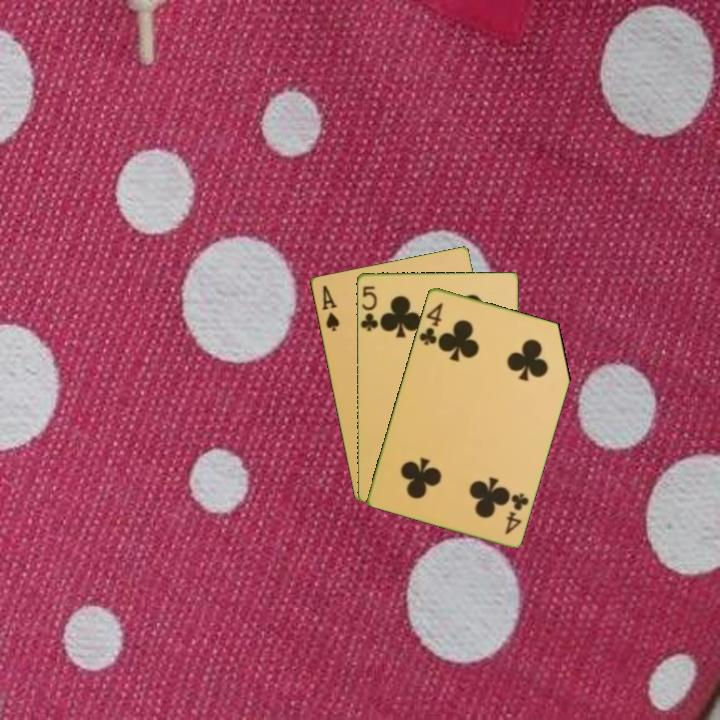4c: (415, 298, 446, 348), (501, 489, 531, 537)
5c: (358, 282, 383, 334)
As: (318, 281, 342, 334)
